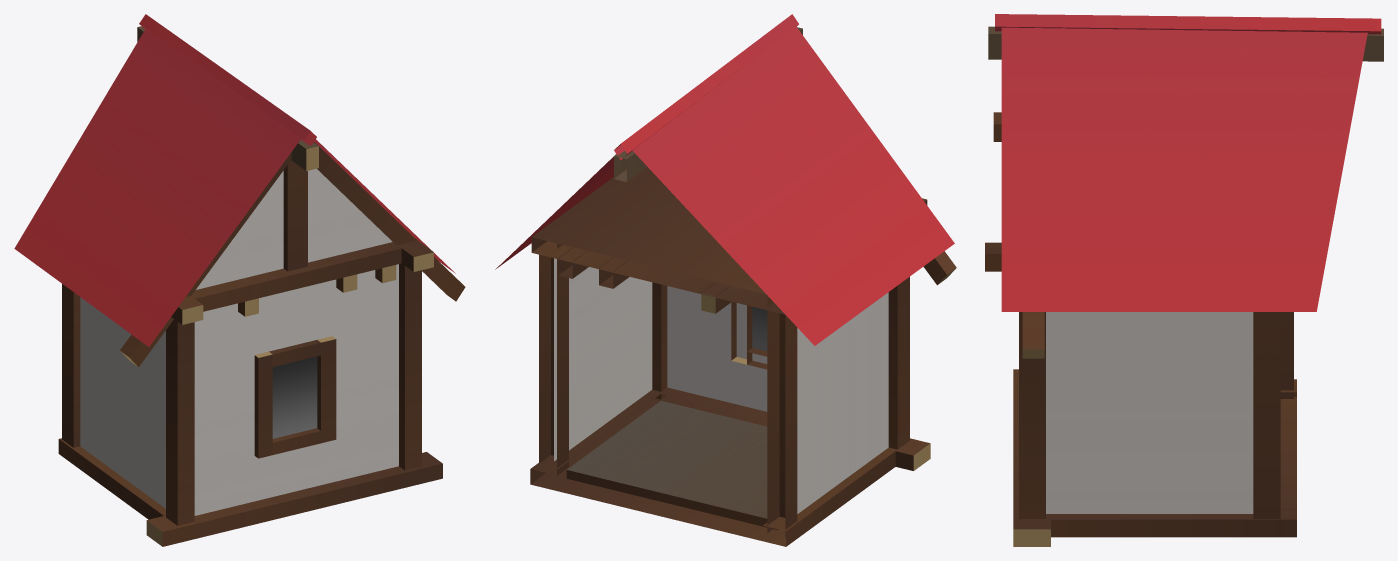
File: House_Piece_4_LOD1.fbx
The picture shows the model from 3 angles, left to right: view 1: azimuth 30°, elevation 25°; view 2: azimuth 150°, elevation 25°; view 3: azimuth 270°, elevation 25°; orthographic projection. The views are drawn at different scales.
Parts seen in each view (by area): view 1: polySurface9634; view 2: polySurface9634; view 3: polySurface9634.
Boxes of the visible parts, x1,y1,x2,y2 form: polySurface9634: (14,14,465,546); polySurface9634: (495,14,956,546); polySurface9634: (985,14,1383,546).
Bounding box in the file's own units: 352 × 387 × 309.
